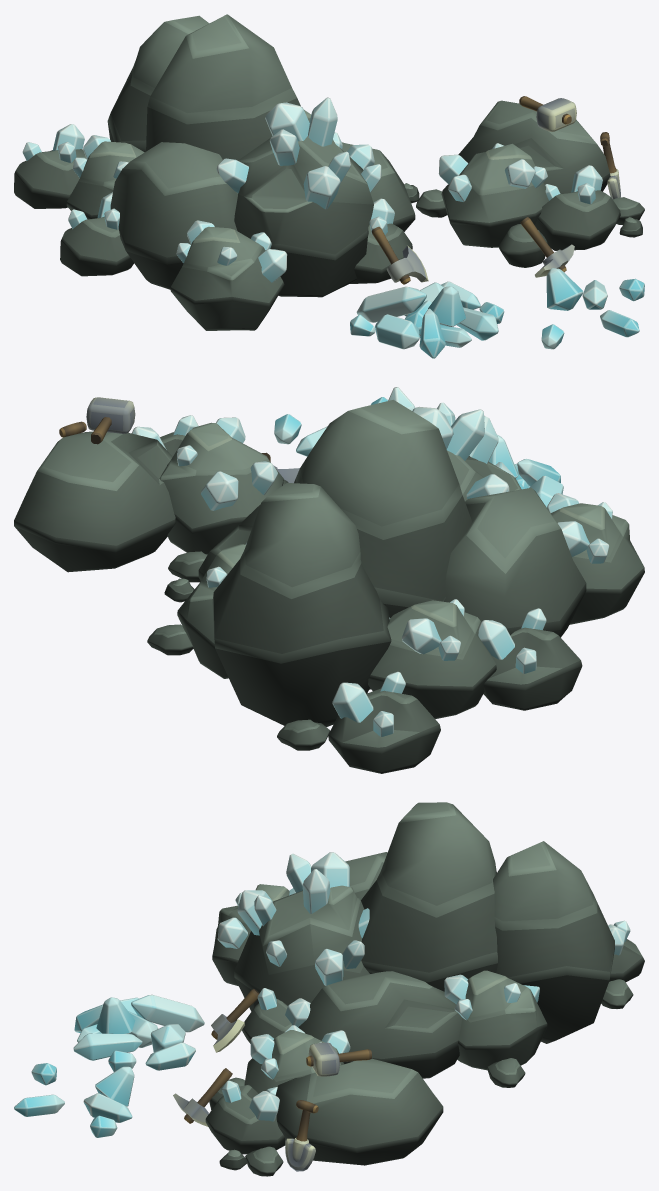
The model's file is christal_diamond_9.fbx.
3 views of the same model, one above another, from view 1: azimuth 30°, elevation 25°; view 2: azimuth 150°, elevation 25°; view 3: azimuth 270°, elevation 25° (orthographic). The views are drawn at different scales.
Parts seen in each view (by area): view 1: christal_diamond_9; view 2: christal_diamond_9; view 3: christal_diamond_9.
Boxes of the visible parts, x1=… form: christal_diamond_9: x1=14, y1=14, x2=644, y2=358; christal_diamond_9: x1=14, y1=387, x2=644, y2=773; christal_diamond_9: x1=14, y1=802, x2=644, y2=1176.
Bounding box in the file's own units: 697 × 325 × 774.
1 material, 1 textured.
